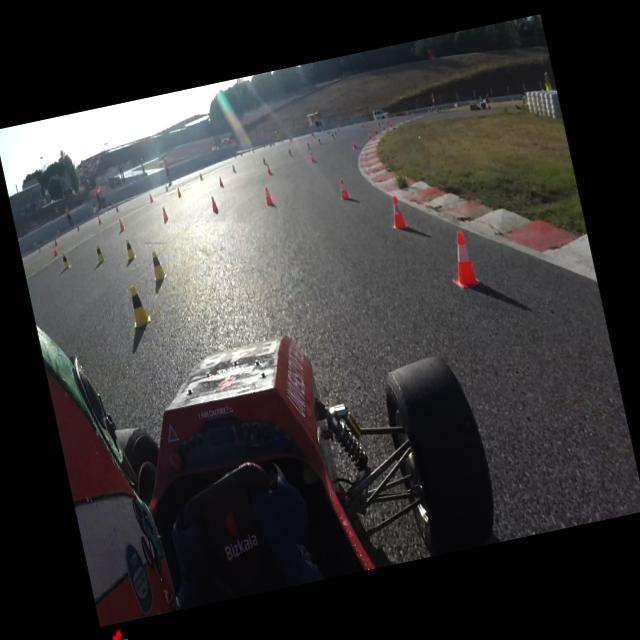orange_cone: (444, 229, 481, 290), (388, 194, 407, 230), (336, 178, 348, 200), (262, 186, 272, 205), (210, 194, 218, 212), (161, 206, 168, 220), (118, 218, 124, 231), (51, 244, 57, 256), (266, 164, 272, 175), (148, 192, 154, 202), (218, 176, 223, 186), (351, 139, 356, 148), (176, 186, 180, 197), (310, 152, 314, 162), (97, 216, 101, 224), (53, 238, 57, 246), (368, 132, 372, 138), (374, 128, 378, 133)
yellow_cone: (126, 282, 151, 328), (149, 249, 166, 280), (124, 238, 135, 259), (60, 252, 70, 268), (95, 245, 104, 262), (164, 182, 168, 191), (288, 148, 292, 156), (262, 156, 266, 164), (231, 164, 235, 172), (198, 172, 202, 180), (37, 245, 41, 252), (76, 225, 80, 231), (115, 205, 118, 212), (307, 142, 310, 148), (317, 138, 320, 144)
